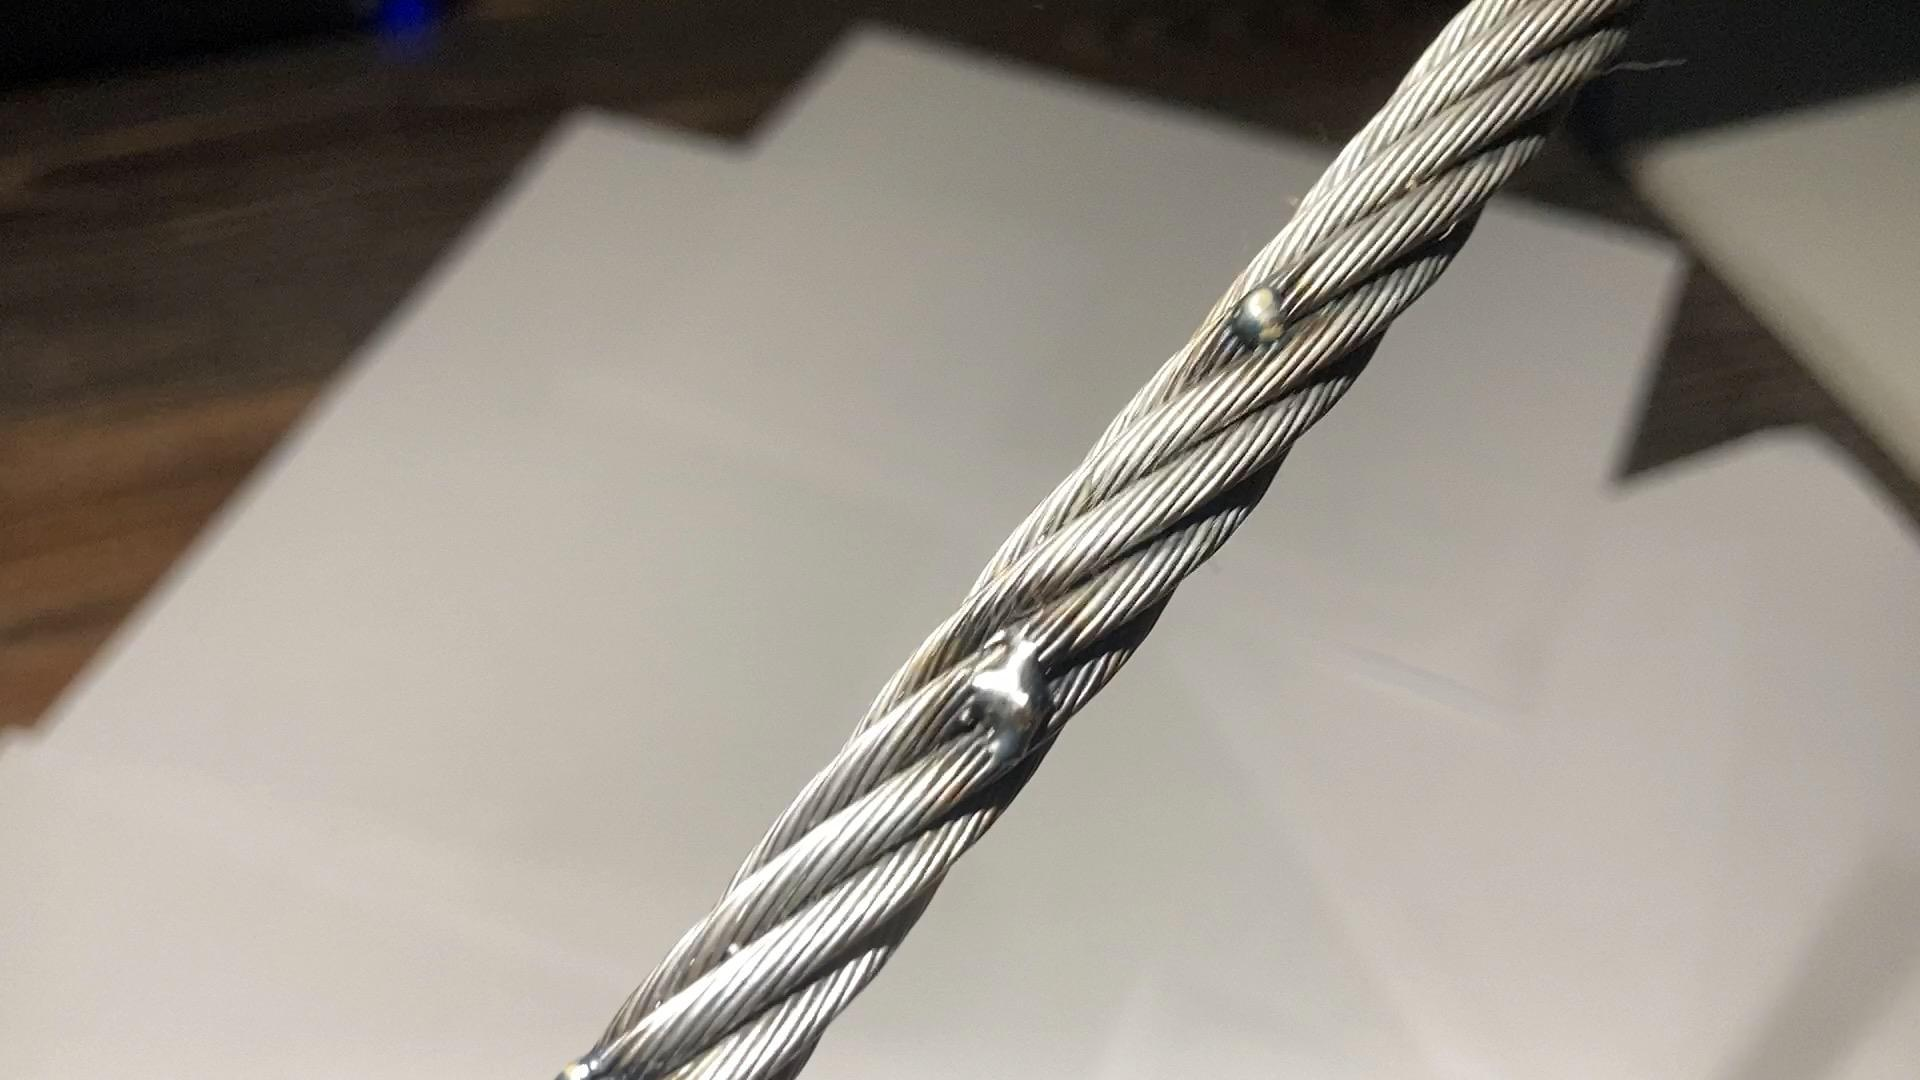thunderbolt: (975, 633, 1077, 736)
